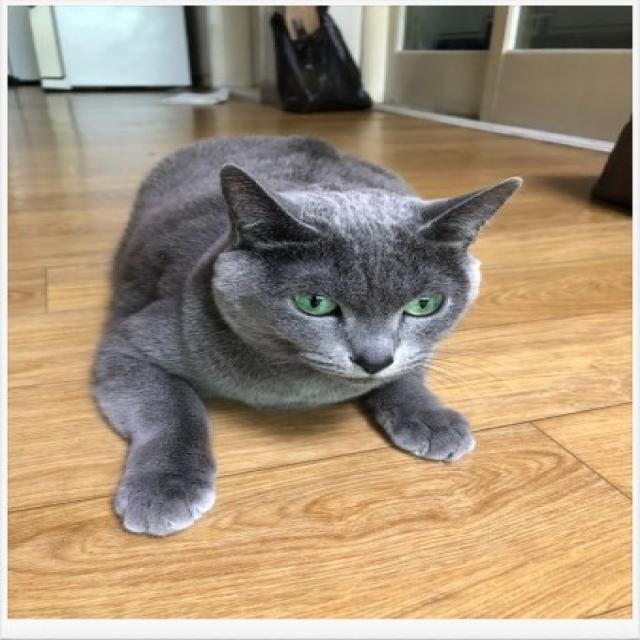cat: (90, 129, 524, 543)
